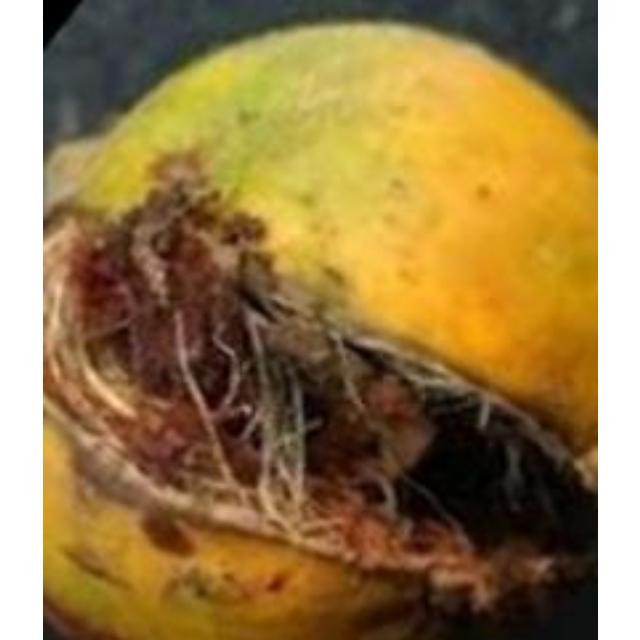damaged: (42, 13, 594, 637)
